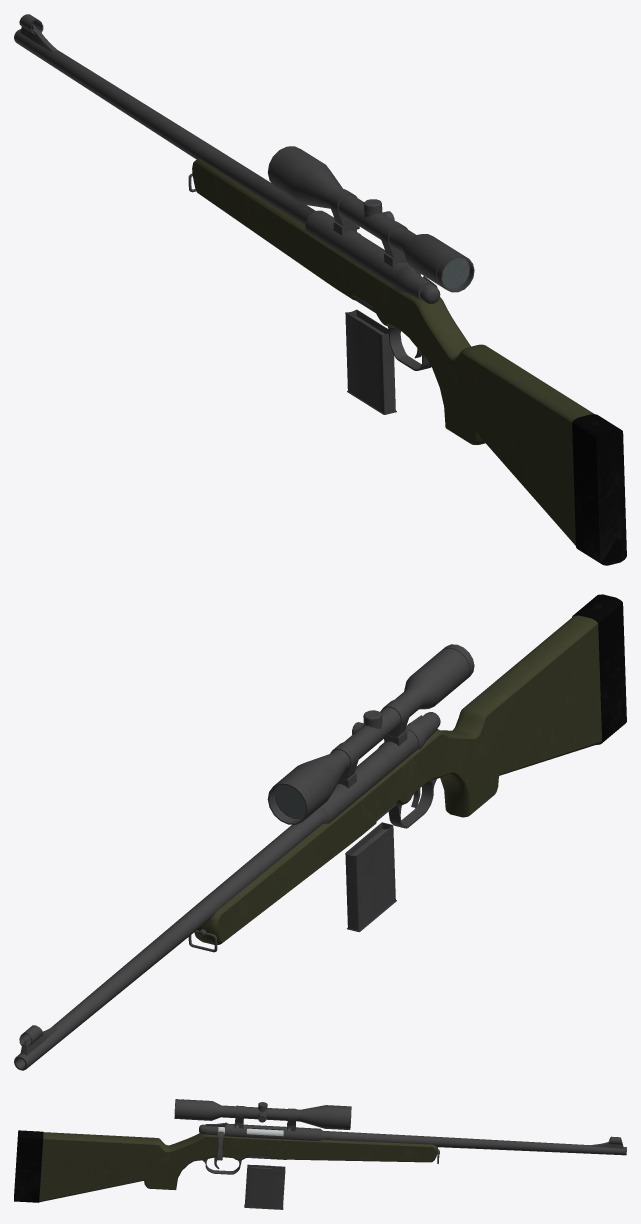
The model's file is svd.glb.
3 renders of one model, top to bottom at view 1: azimuth 30°, elevation 25°; view 2: azimuth 150°, elevation 25°; view 3: azimuth 270°, elevation 25°, orthographic. The views are drawn at different scales.
Parts seen in each view (by area): view 1: Barrel; view 2: Barrel; view 3: Barrel.
Part boxes in pixels (bbox=[...]): Barrel: bbox=[14, 14, 626, 565]; Barrel: bbox=[14, 594, 626, 1070]; Barrel: bbox=[14, 1099, 626, 1209].
Bounding box in the file's own units: 0.0568 × 0.2245 × 1.15.
Materials: 1 (1 with a texture image).
